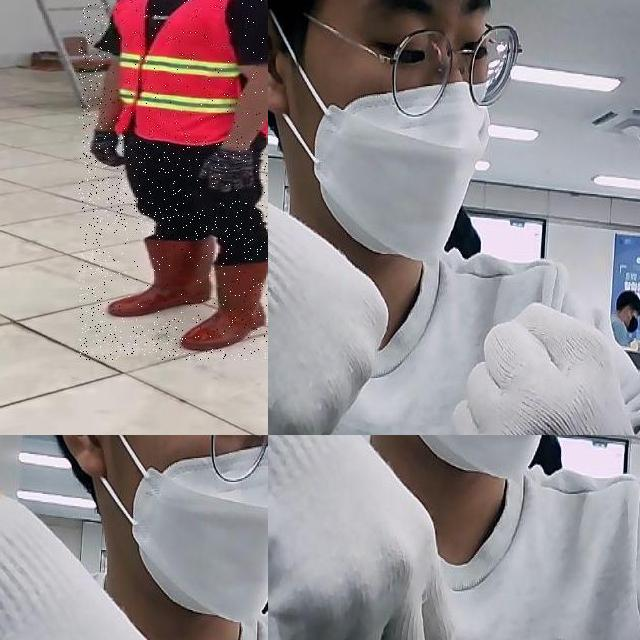BOOTS: (106, 232, 222, 318), (181, 262, 268, 350)
GLASS: (90, 126, 125, 169)
GLOVE: (268, 435, 463, 640), (268, 162, 388, 435), (0, 484, 197, 640), (447, 298, 640, 435)
VEST: (106, 0, 268, 141)
